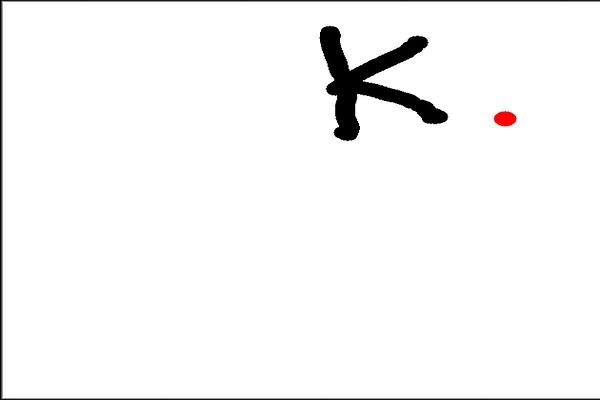K: (316, 17, 455, 150)
